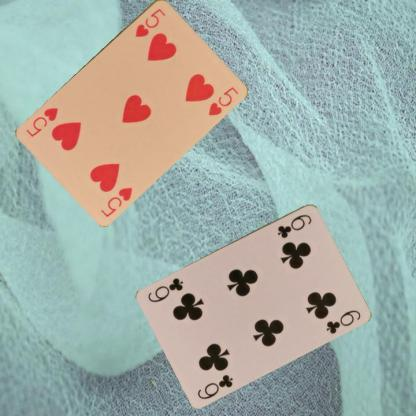5h: (98, 184, 134, 218), (132, 5, 167, 38)
6c: (194, 372, 235, 401), (275, 211, 313, 240)
